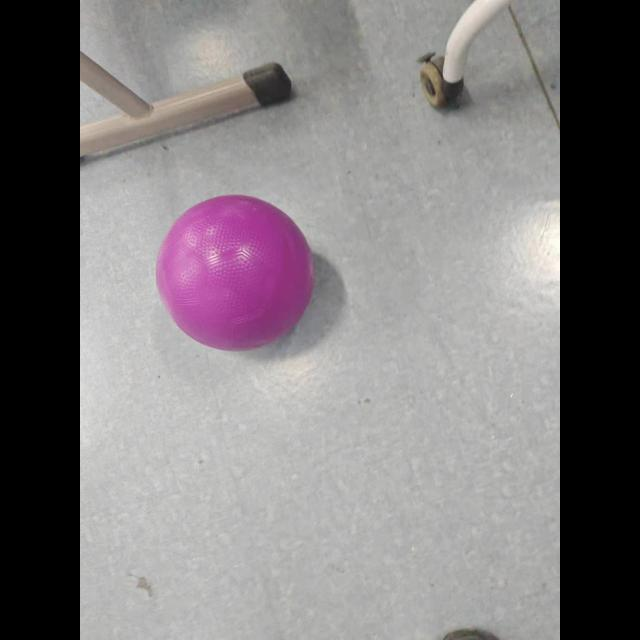P: (144, 187, 336, 359)
